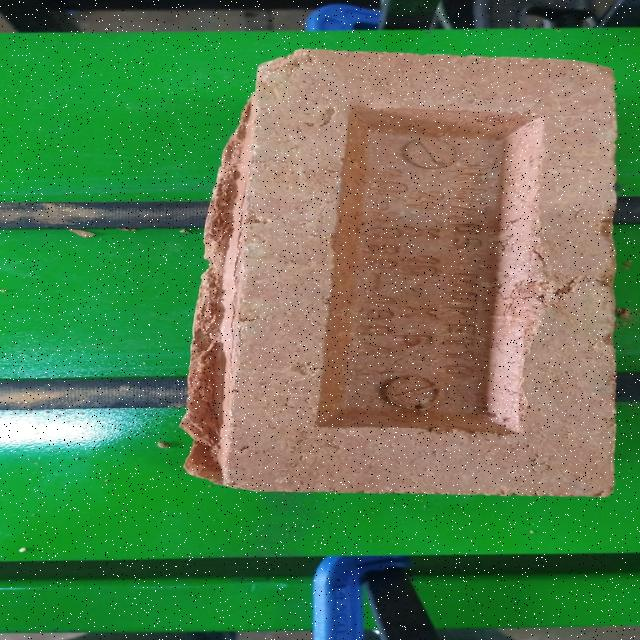bricks_ruin: (178, 48, 616, 498)
